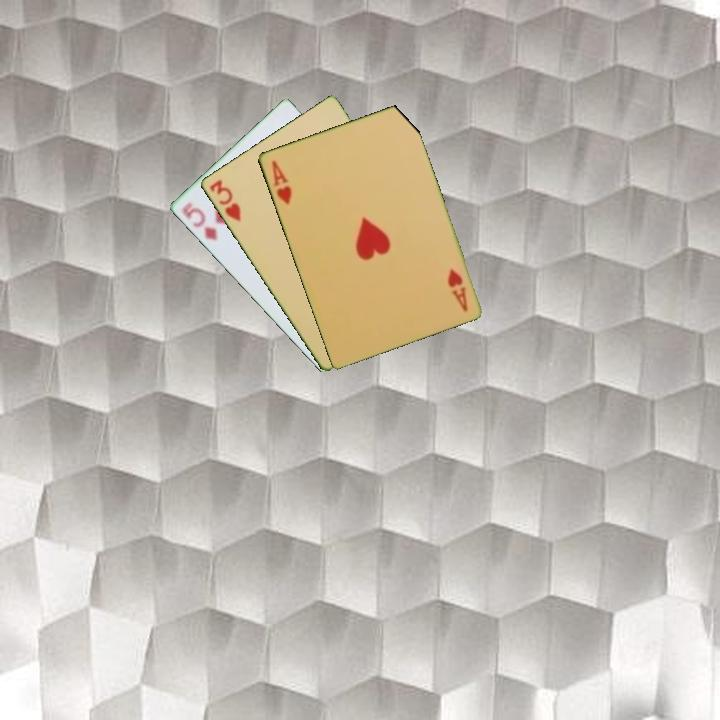3h: (205, 176, 244, 224)
5d: (178, 198, 220, 244)
Ah: (268, 157, 294, 207), (444, 264, 470, 314)
